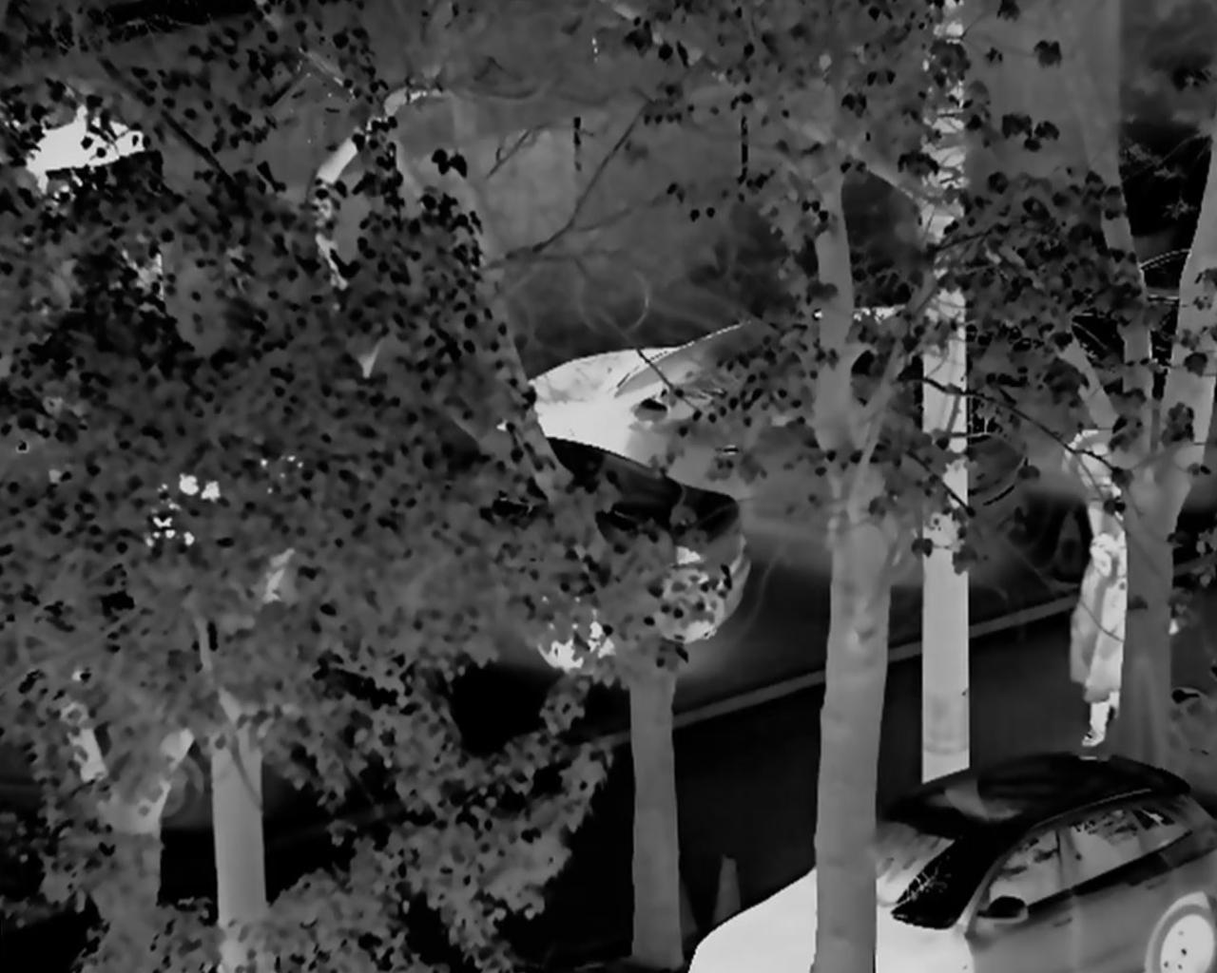person: (1057, 481, 1148, 752)
